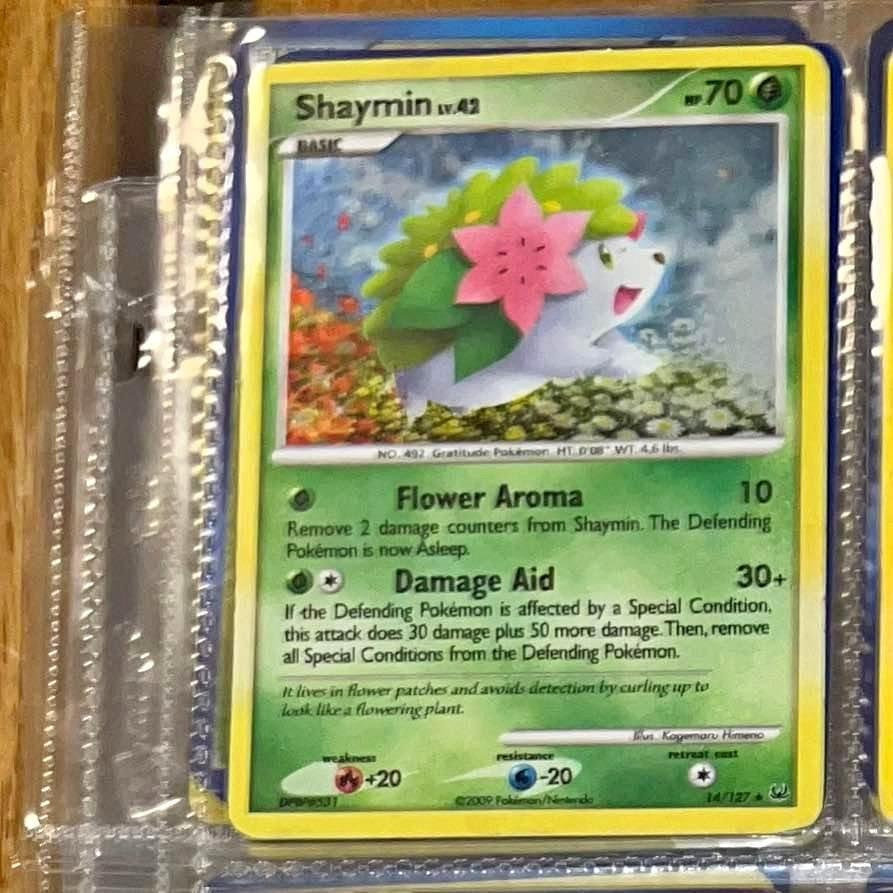card: (228, 42, 830, 838)
